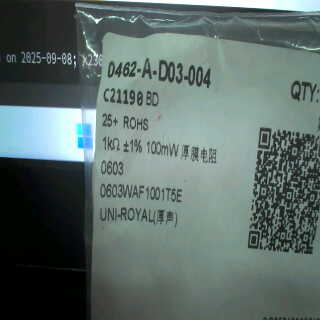1kR: (98, 134, 122, 153)
